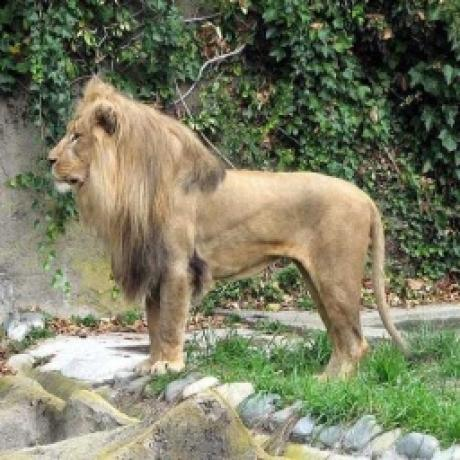Lion: (45, 72, 444, 384)
